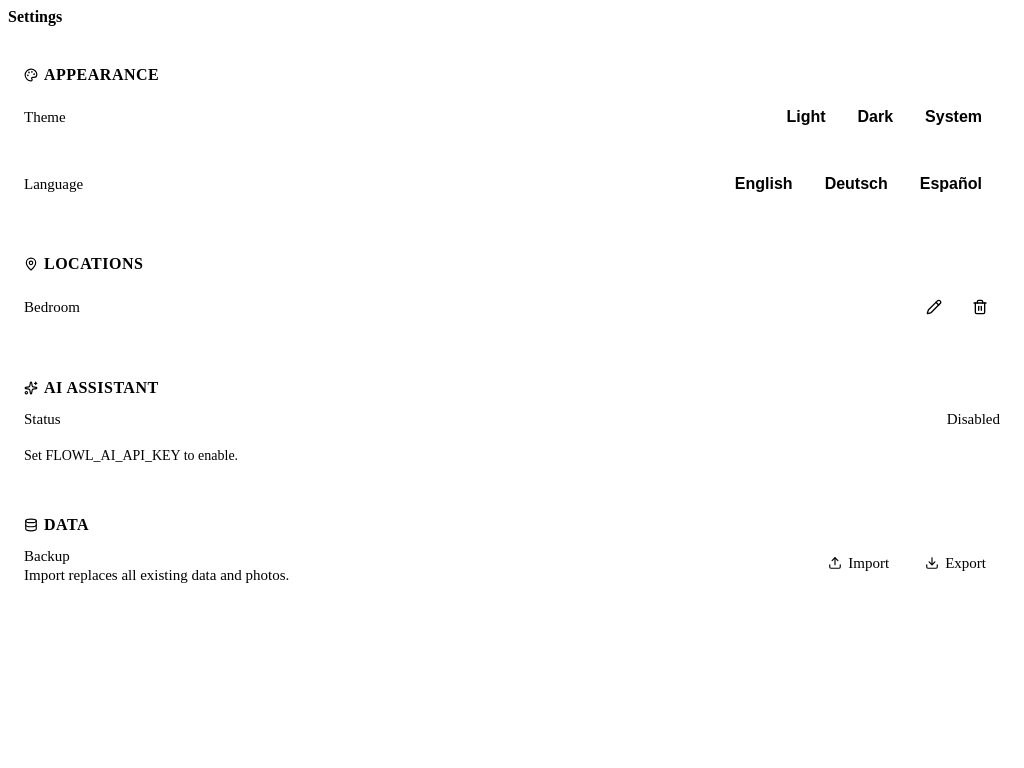
Test: settings locations section › keeps rename conflicts inline
Click the 1st button with class "btn-icon" at [934, 307], box [914, 287, 954, 327]
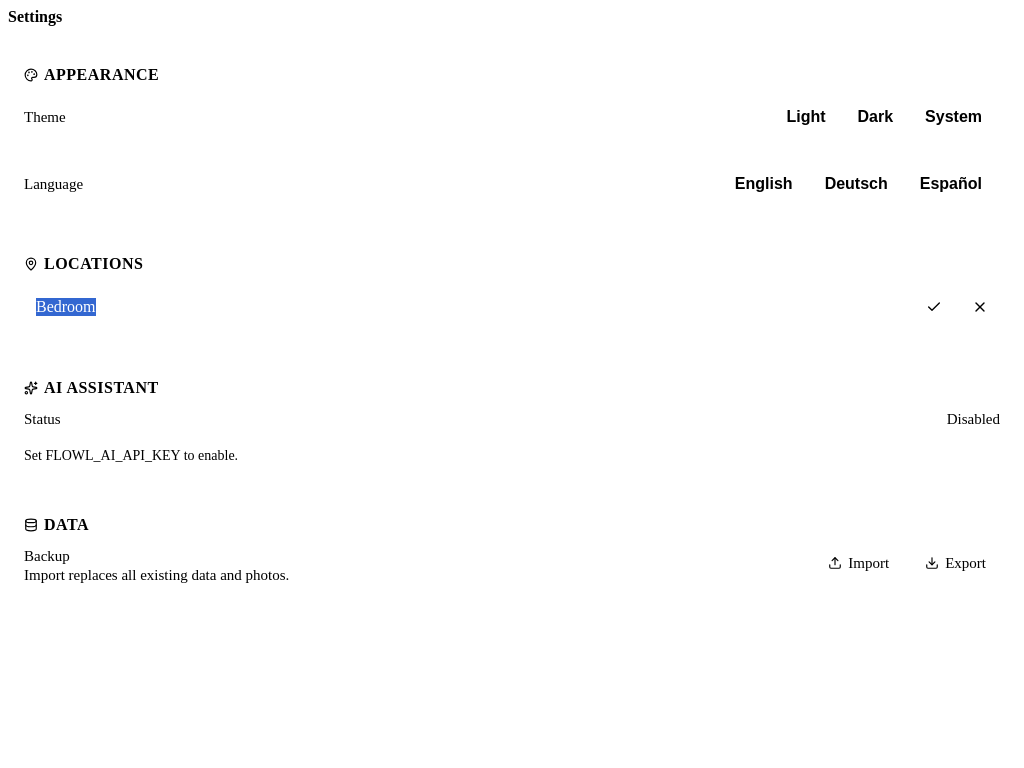
Replace the text in the field with class "edit-input" with "Kitchen" at [466, 307], box [24, 287, 908, 327]
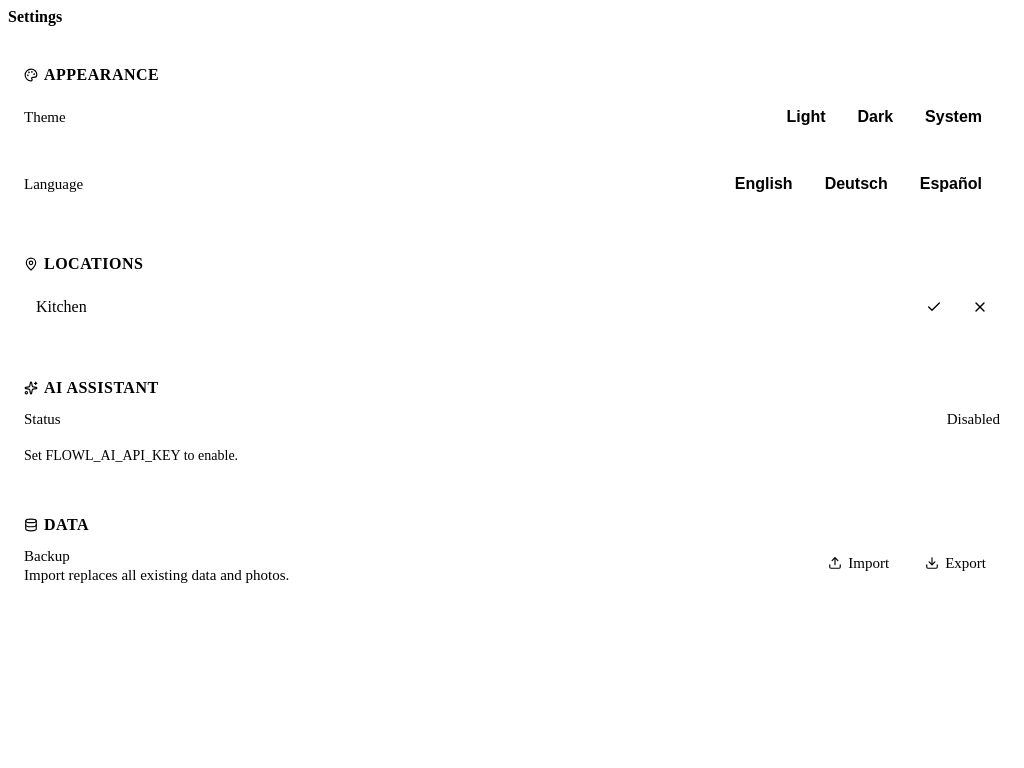
Click the 1st button with class "btn-icon" at [934, 307], box [914, 287, 954, 327]
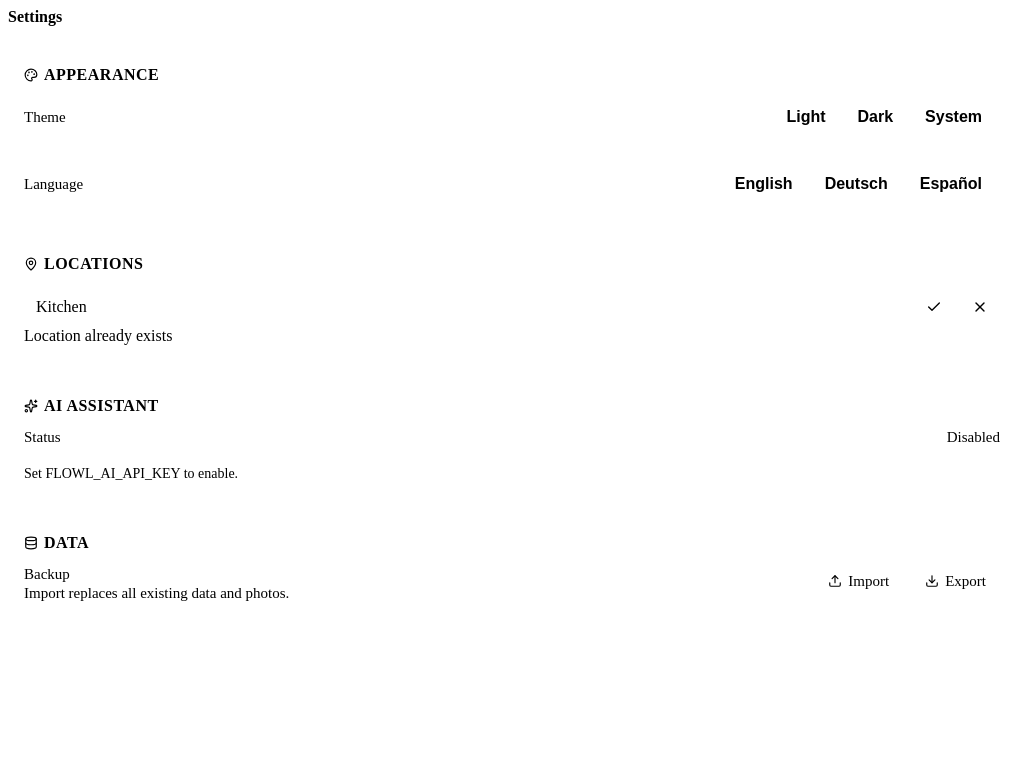
Result: the text "Location already exists" is shown at [24, 327, 172, 344]
